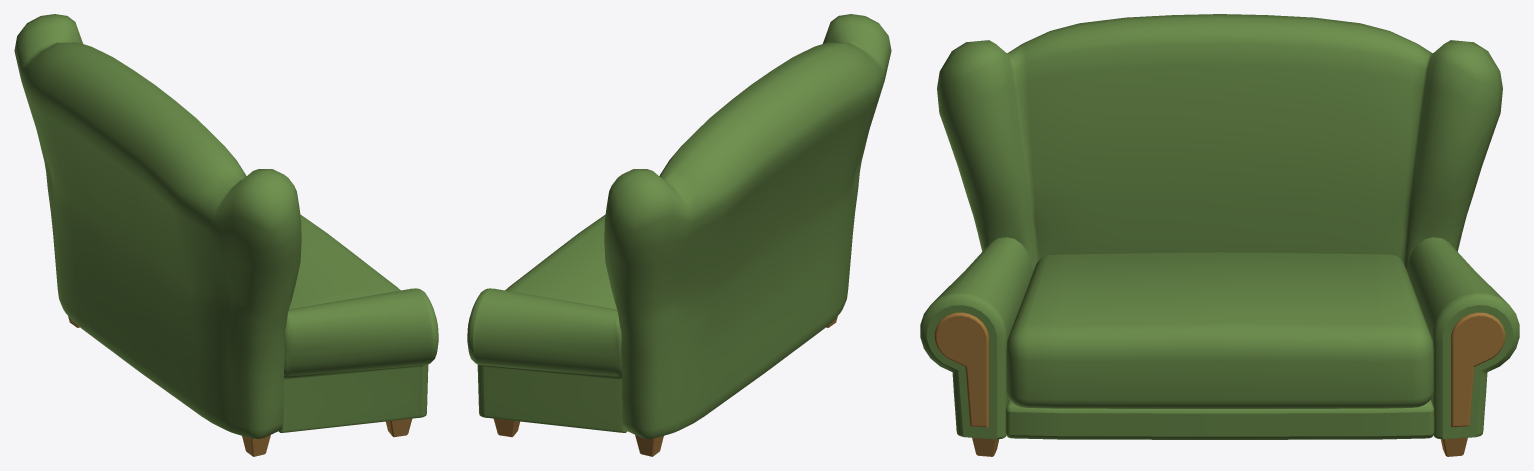
The model's file is Couch4.glb.
3 renders of one model, left to right at view 1: azimuth 30°, elevation 25°; view 2: azimuth 150°, elevation 25°; view 3: azimuth 270°, elevation 25°, orthographic. The views are drawn at different scales.
Visible parts, largest first — view 1: Couch3; view 2: Couch3; view 3: Couch3.
Part boxes in pixels (x1,y1,x2,y2): Couch3: [14, 14, 438, 456]; Couch3: [467, 14, 891, 456]; Couch3: [920, 14, 1519, 456].
Size of the model in its own units: 1.23 by 1.57 by 2.44.
